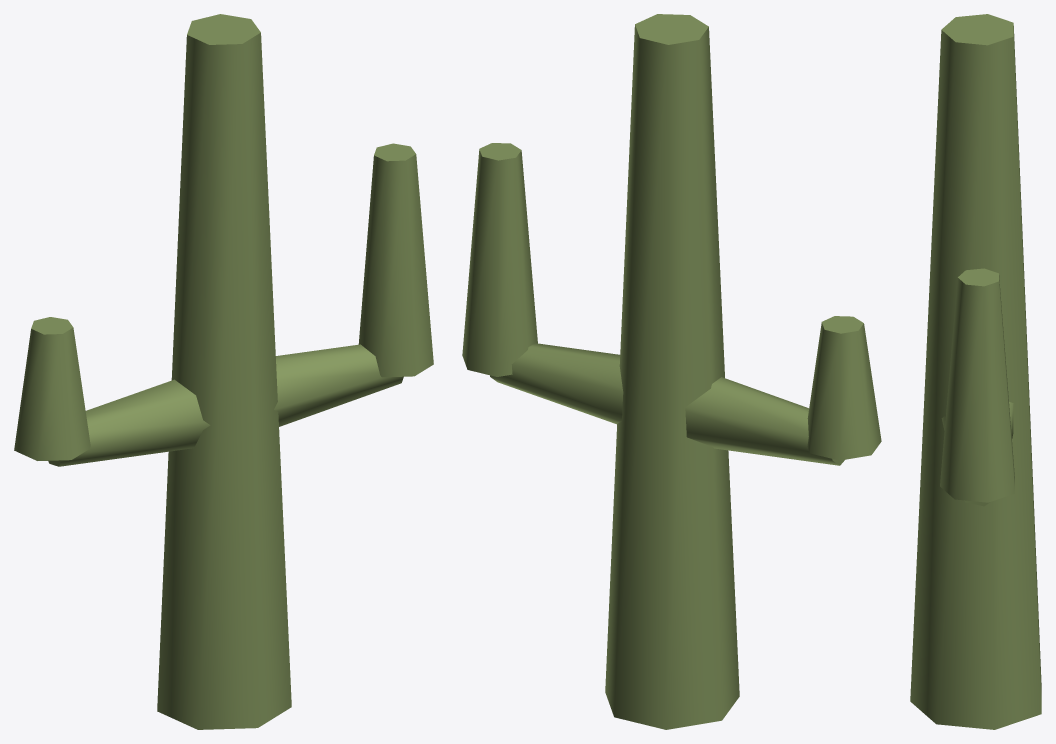
Rendered from cactus.glb.
3 views of the same model, side by side, from view 1: azimuth 30°, elevation 25°; view 2: azimuth 150°, elevation 25°; view 3: azimuth 270°, elevation 25° (orthographic).
Visible parts, largest first — view 1: Кактус; view 2: Кактус; view 3: Кактус.
Part boxes in pixels (x1,y1,x2,y2): Кактус: (14,14,433,729); Кактус: (462,14,881,729); Кактус: (910,14,1041,729).
Bounding box in the file's own units: 2.87 × 4.5 × 0.7984.
